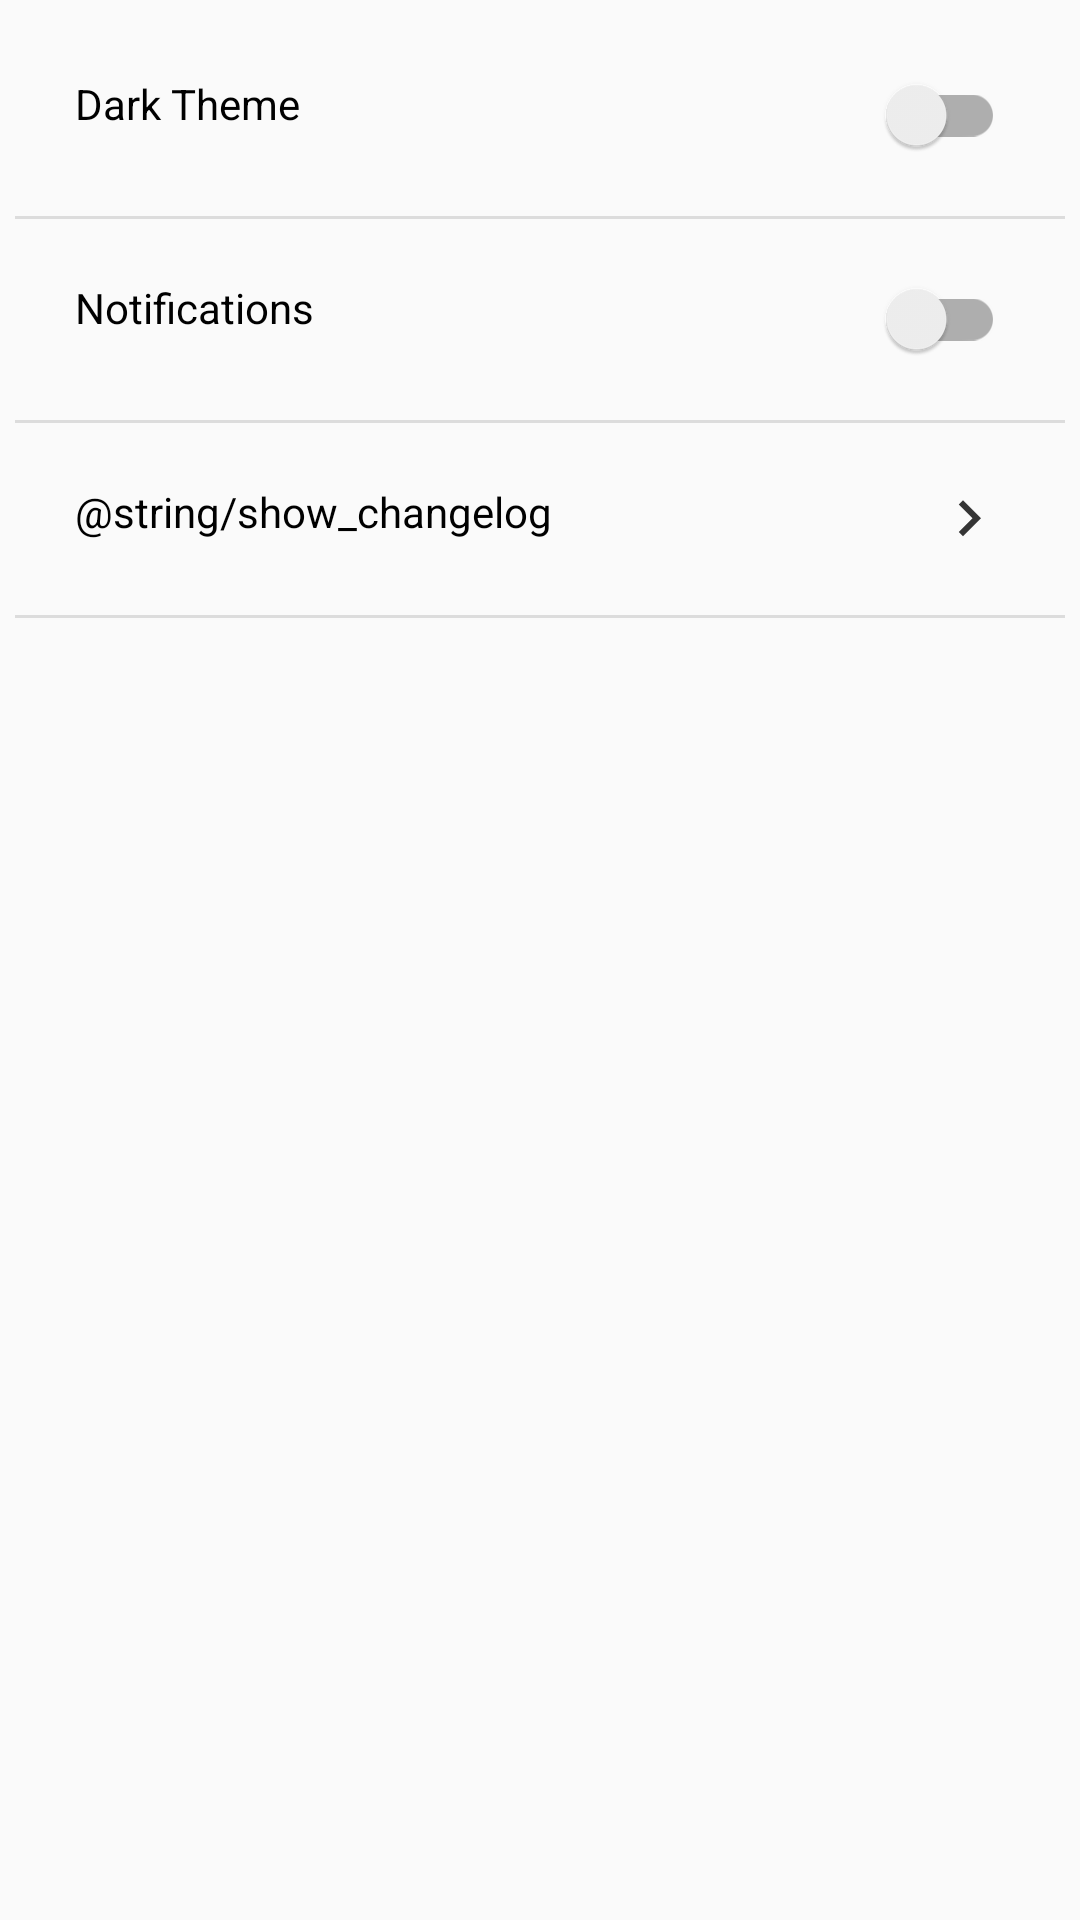

Icons on this 1080*1920 Android screen, each with its box as (left=x1, top=y1, right=x2, bottom=y2):
arrow right: (left=959, top=500, right=981, bottom=536)
